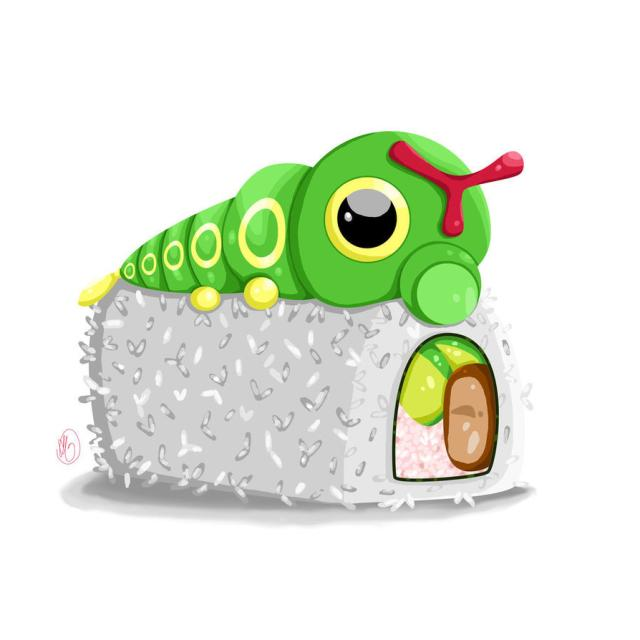Caterpie: (97, 127, 531, 303)
